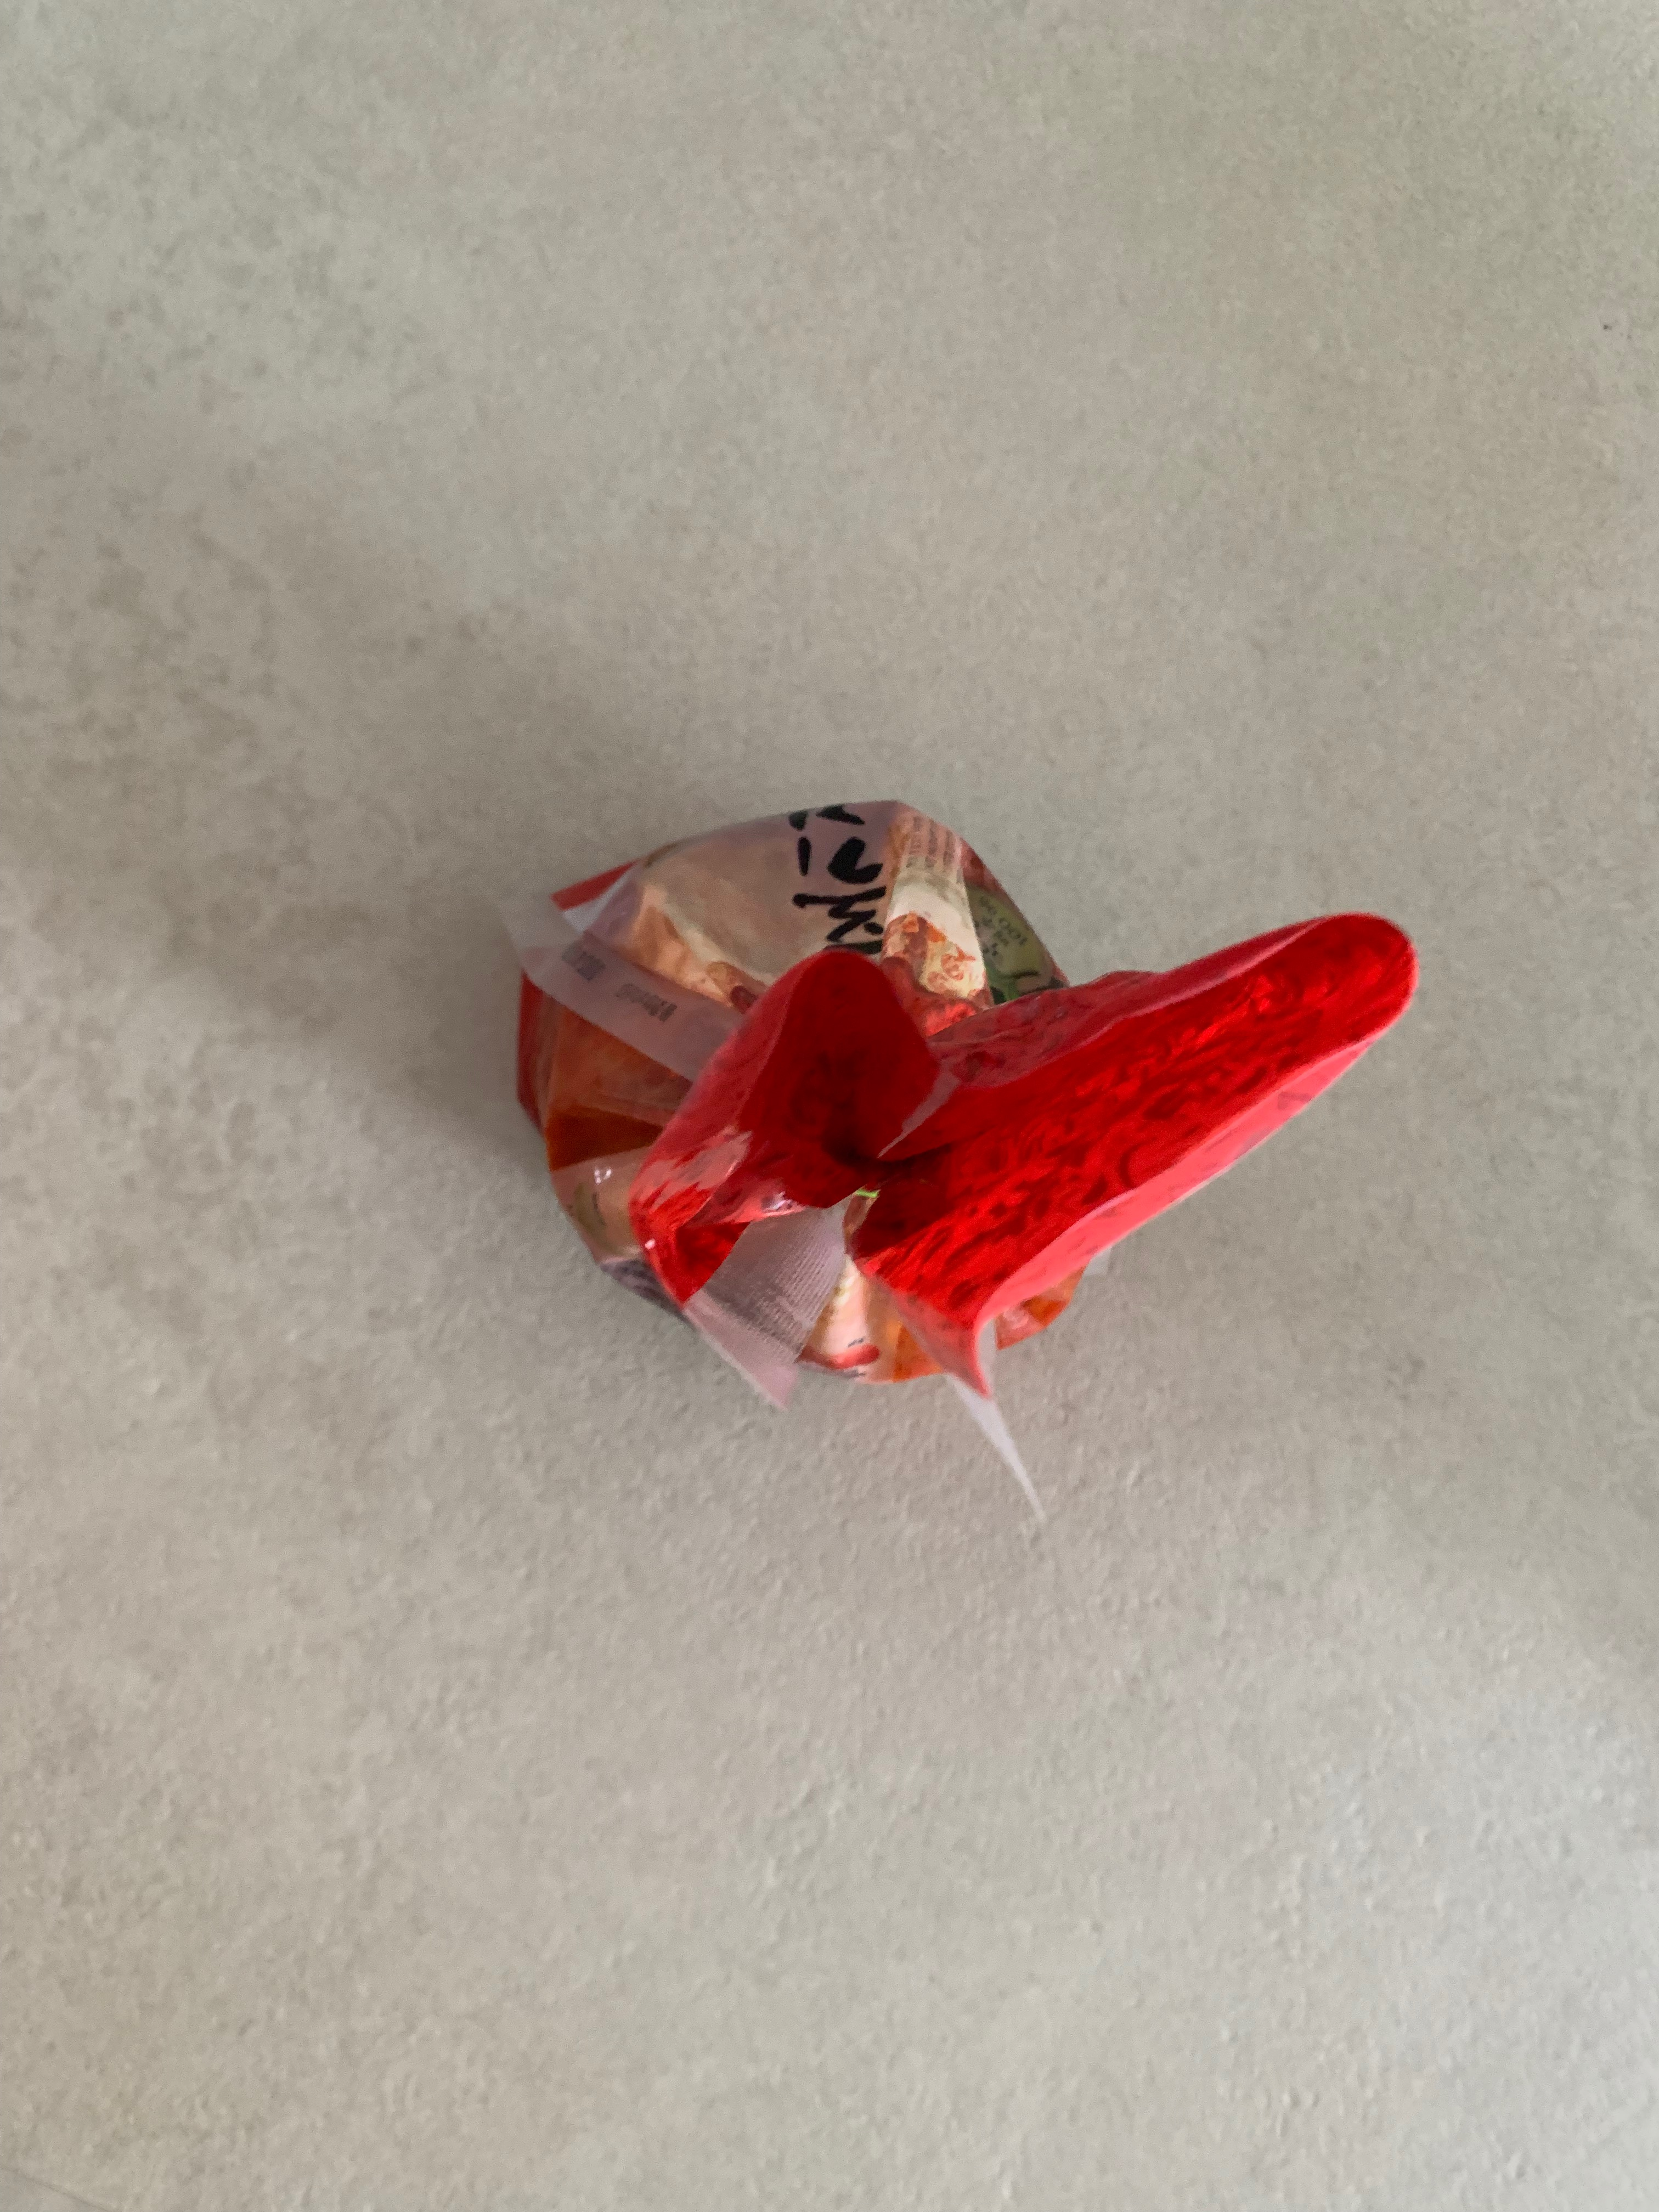kimchi: (514, 799, 1427, 1393)
